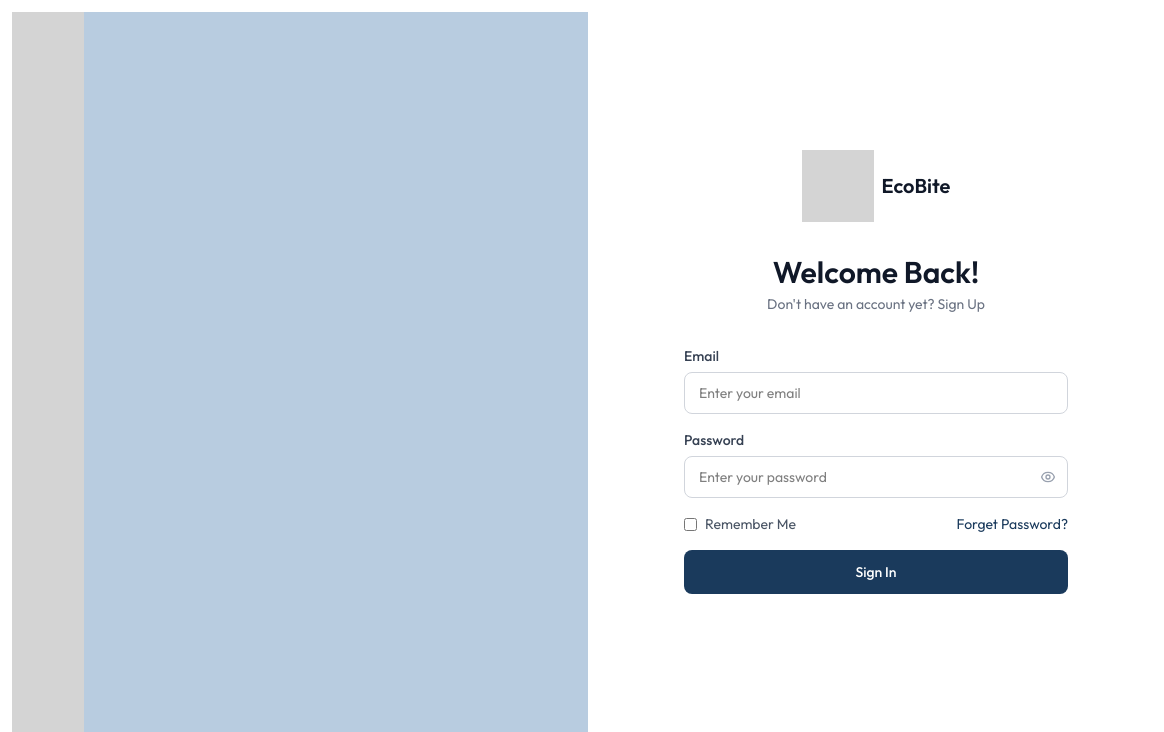
it: LoginForm › tombol submit disabled saat loading
Type "test@example.com" into the field with placeholder "Enter your email" at (876, 393), box [684,372,1068,414]
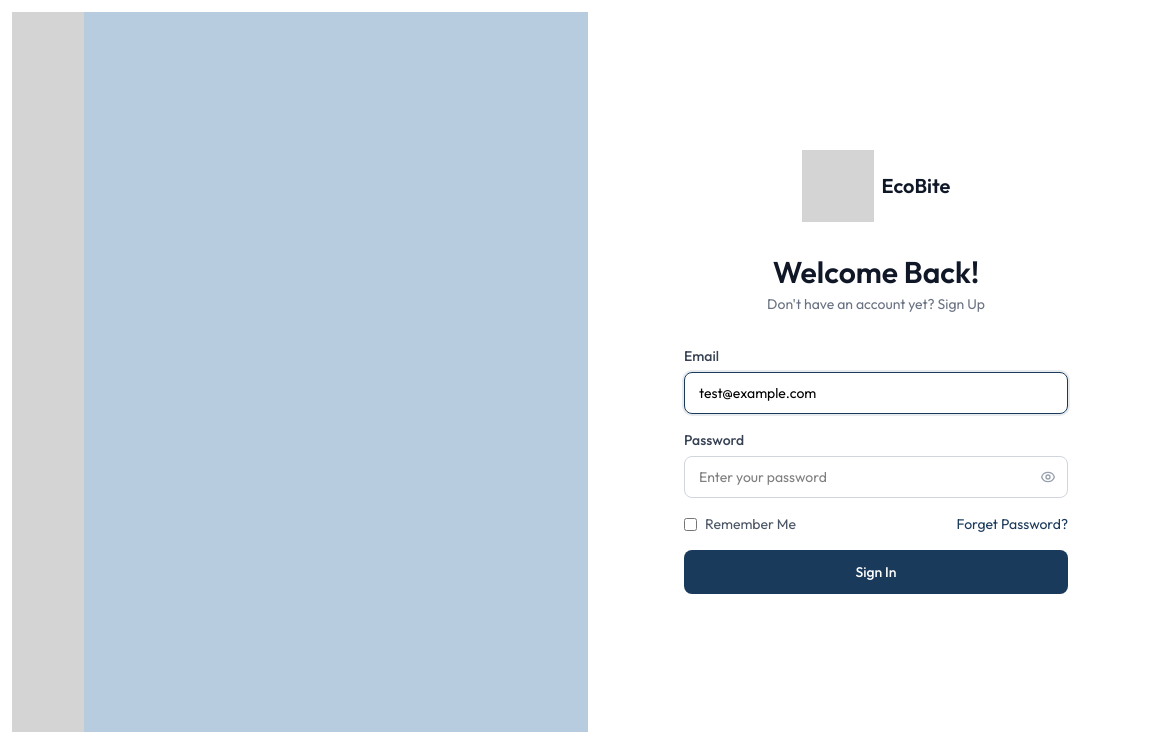
Type "password123" into the password field with placeholder "Enter your password" at (876, 477), box [684,456,1068,498]
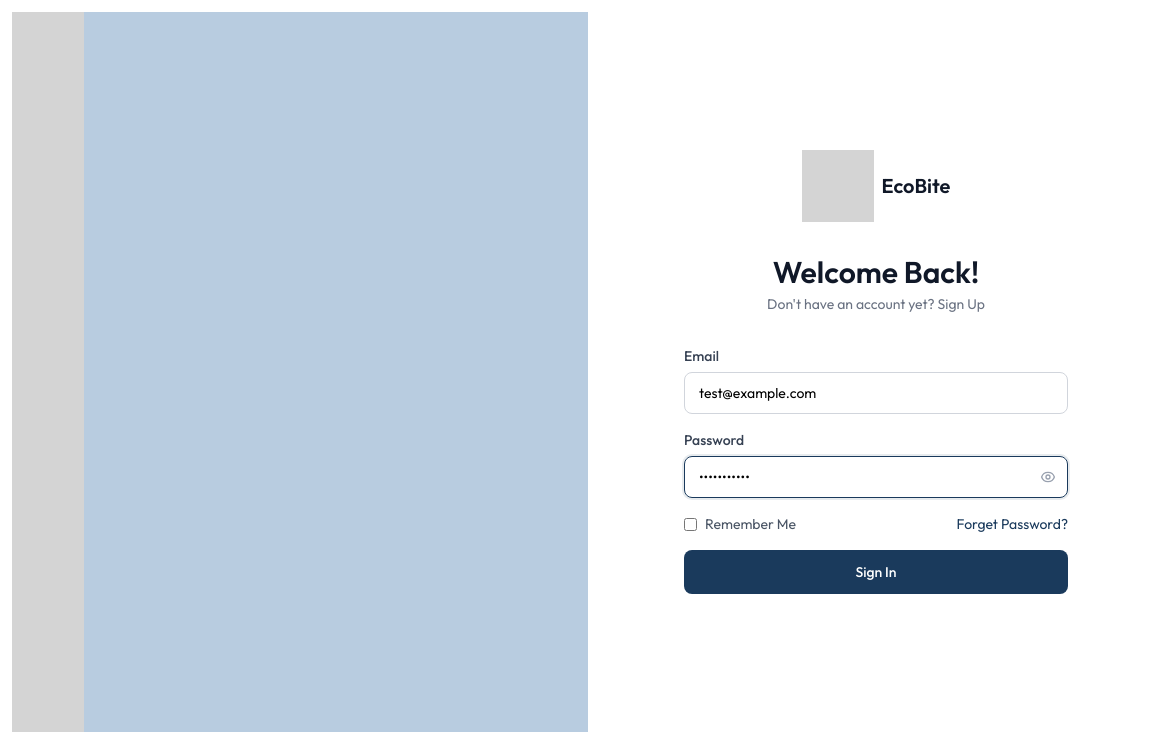
Click the button "Sign In" at (876, 572), box [684,550,1068,594]
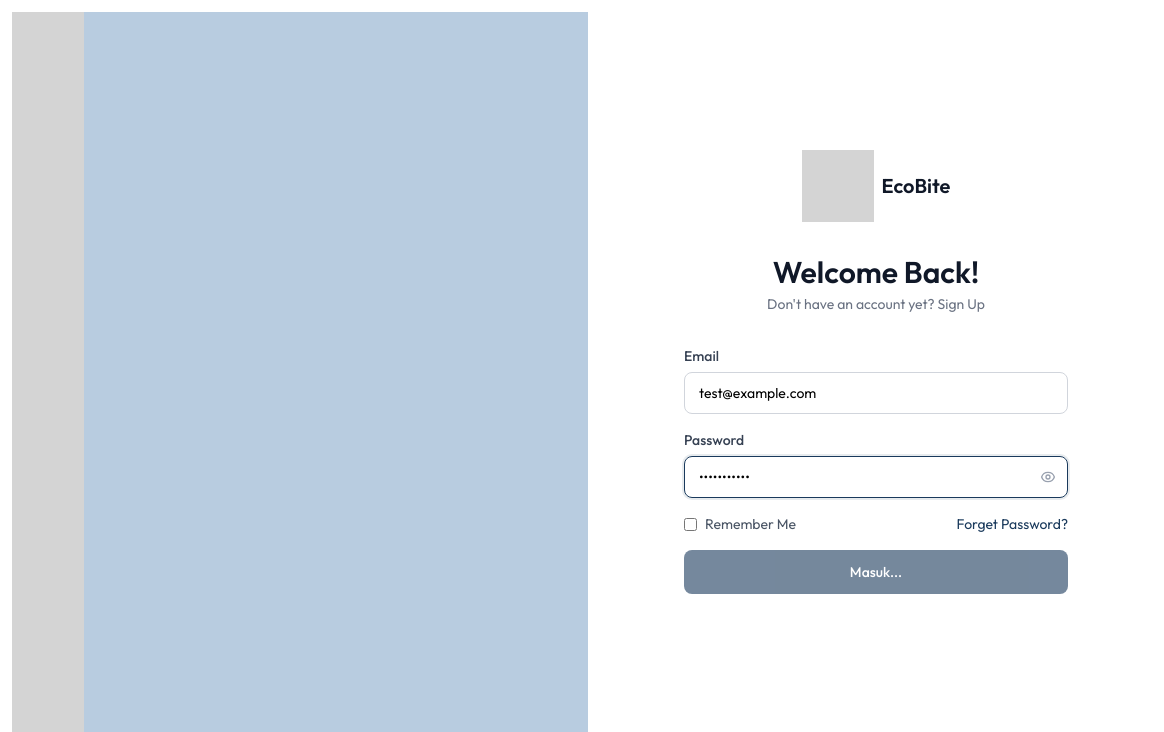
Result: the button "Masuk..." is disabled at [684,550,1068,594]
